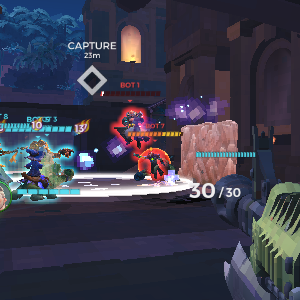model: (114, 103, 143, 145), (144, 149, 171, 176)
